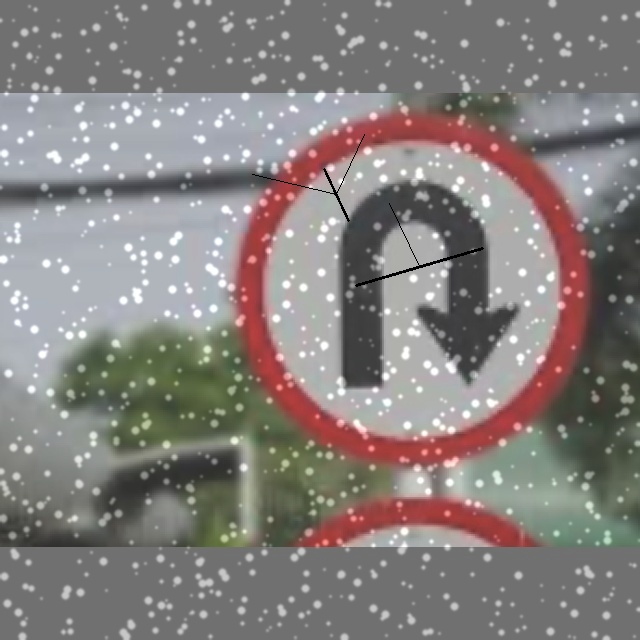U_Turn_Ahead: (241, 126, 587, 446)
